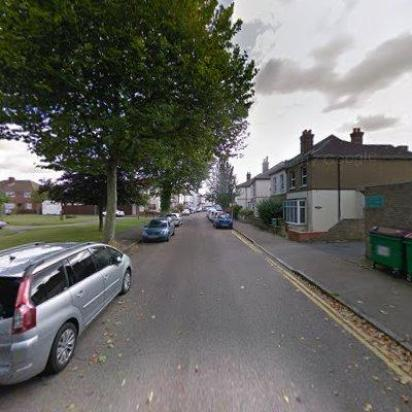stationary-car-onstreet: (0, 237, 132, 389), (142, 215, 176, 242), (212, 212, 232, 230), (100, 207, 126, 217), (166, 212, 180, 228), (170, 212, 182, 226), (211, 211, 223, 223), (180, 207, 192, 217)
